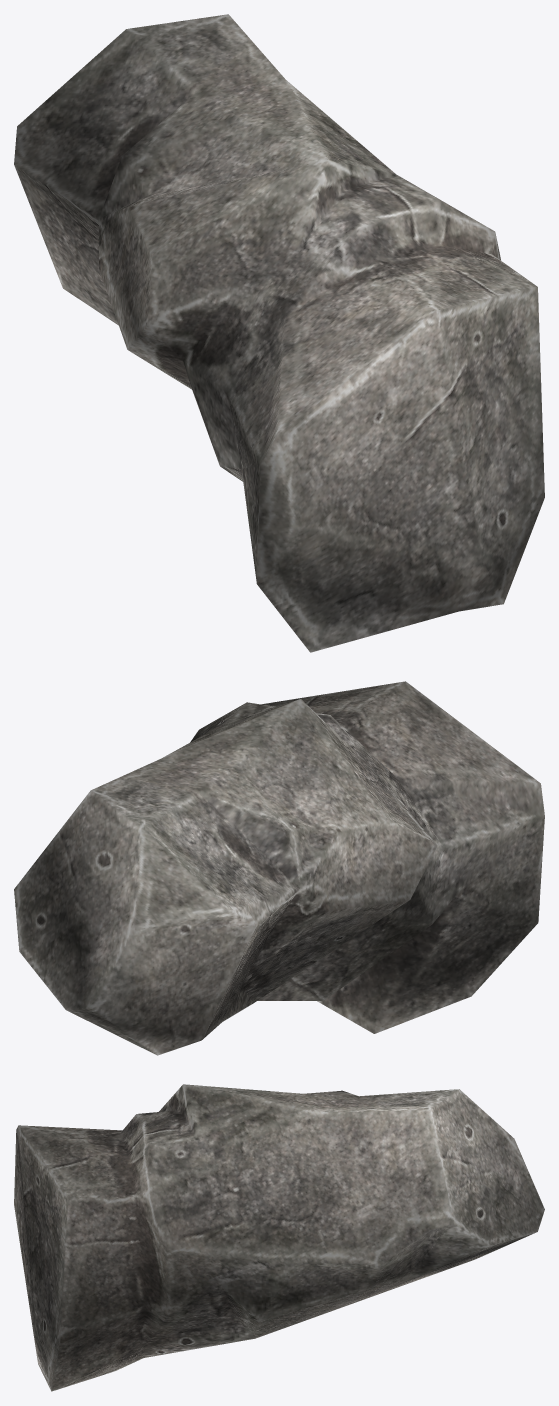
The model's file is Rock5.glb.
3 views of the same model, one above another, from view 1: azimuth 30°, elevation 25°; view 2: azimuth 150°, elevation 25°; view 3: azimuth 270°, elevation 25° (orthographic). The views are drawn at different scales.
Parts seen in each view (by area): view 1: Rock5; view 2: Rock5; view 3: Rock5.
Boxes of the visible parts, x1,y1,x2,y2 form: Rock5: (14, 14, 544, 652); Rock5: (14, 681, 544, 1055); Rock5: (14, 1084, 544, 1391).
Size of the model in its own units: 0.1808 by 0.2105 by 0.3369.
1 material, 1 textured.
